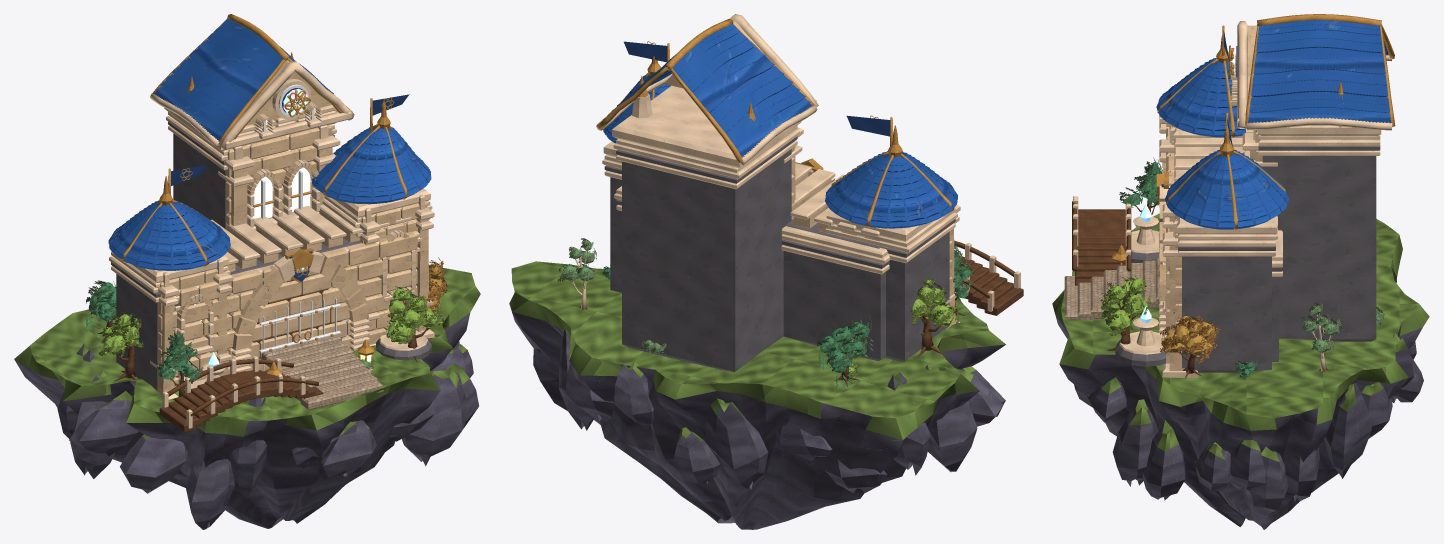
Rendered from island-0.glb.
3 renders of one model, left to right at view 1: azimuth 30°, elevation 25°; view 2: azimuth 150°, elevation 25°; view 3: azimuth 270°, elevation 25°, orthographic. The views are drawn at different scales.
Visible parts, largest first — view 1: Stratified cliffs and meadow / cliff, Architecture / stone, Architecture / trim, Architecture / roof, Stratified cliffs and meadow / top, Architecture / joint, Architecture / wood, Architecture / gold, Architecture / paving, Canopy oak / leaves, Canopy oak / sprays, Architecture / iron (+2 smaller); view 2: Architecture / joint, Stratified cliffs and meadow / cliff, Stratified cliffs and meadow / top, Architecture / trim, Architecture / roof, Canopy oak / leaves, Architecture / gold, Canopy oak / sprays, Architecture / wood, Architecture / stone, Architecture / cloth; view 3: Architecture / joint, Stratified cliffs and meadow / cliff, Architecture / roof, Stratified cliffs and meadow / top, Architecture / trim, Architecture / wood, Architecture / gold, Canopy oak / sprays, Canopy oak / leaves, Architecture / paving, Architecture / stone.
Boxes of the visible parts, x1,y1,x2,y2 form: Stratified cliffs and meadow / cliff: (14,313,478,529); Architecture / stone: (154,60,430,395); Architecture / trim: (109,61,434,428); Architecture / roof: (108,18,431,270); Stratified cliffs and meadow / top: (14,266,480,439); Architecture / joint: (111,122,431,389); Architecture / wood: (92,263,443,432); Architecture / gold: (121,14,408,375); Architecture / paving: (260,335,383,409); Canopy oak / leaves: (85,263,444,388); Canopy oak / sprays: (86,257,448,385); Architecture / iron: (193,108,372,396); Architecture / joint: (604,136,955,372); Stratified cliffs and meadow / cliff: (510,308,1005,529); Stratified cliffs and meadow / top: (509,261,1005,442); Architecture / trim: (562,14,1020,322); Architecture / roof: (600,24,957,228); Canopy oak / leaves: (561,240,971,388); Architecture / gold: (597,19,954,227); Canopy oak / sprays: (557,238,973,378); Architecture / wood: (579,240,1023,386); Architecture / stone: (664,21,955,328); Architecture / cloth: (624,41,890,136); Architecture / joint: (1115,146,1380,372); Stratified cliffs and meadow / cliff: (1055,278,1423,529); Architecture / roof: (1156,20,1391,229); Stratified cliffs and meadow / top: (1052,213,1429,461); Architecture / trim: (1073,21,1392,378); Architecture / wood: (1072,169,1328,378); Architecture / gold: (1112,14,1395,276); Canopy oak / sprays: (1099,157,1384,378); Canopy oak / leaves: (1101,161,1382,376); Architecture / paving: (1064,258,1162,320); Architecture / stone: (1159,25,1262,370).
Bounding box in the file's own units: 6.06 × 6.41 × 4.29.
21 materials, 12 textured.
